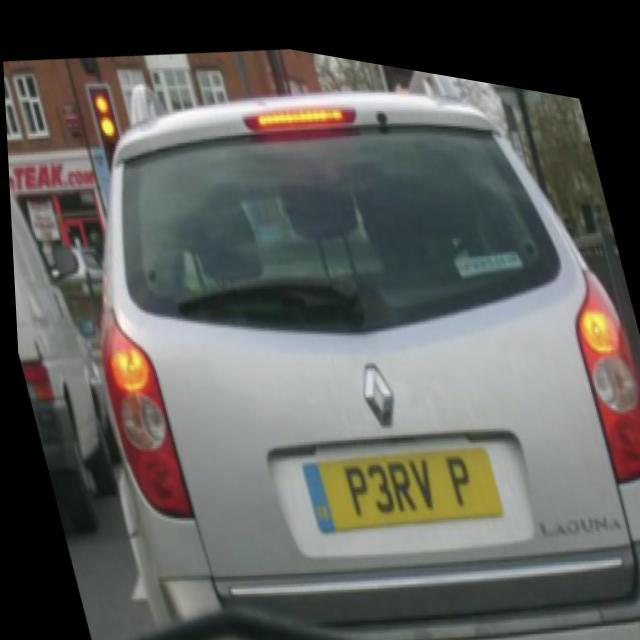license_plate: (292, 413, 498, 540)
